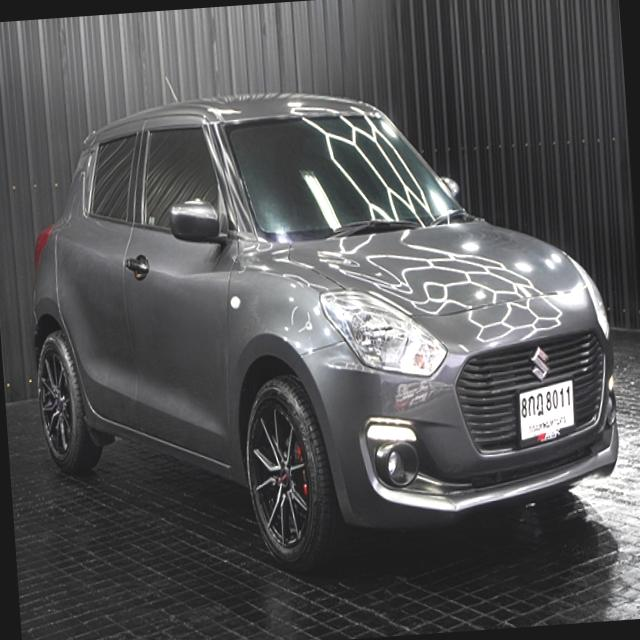license_plate: (513, 378, 579, 446)
